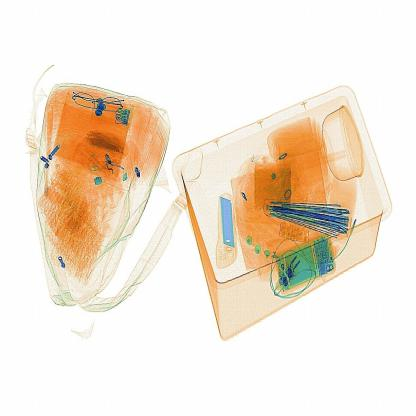pliers: (216, 190, 239, 272)
